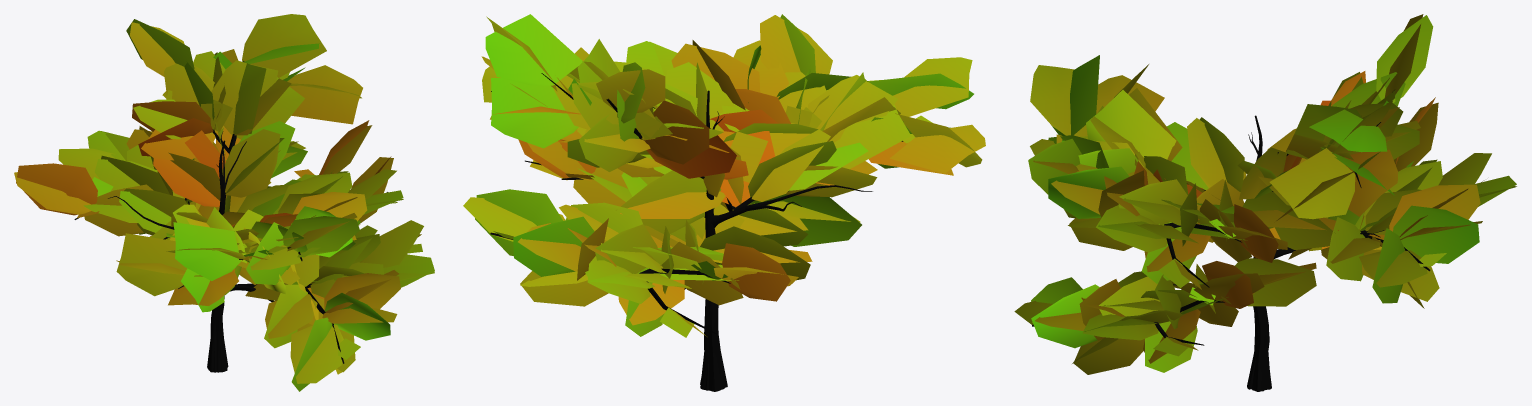
The model's file is Tree_small_1.glb.
3 views of the same model, side by side, from view 1: azimuth 30°, elevation 25°; view 2: azimuth 150°, elevation 25°; view 3: azimuth 270°, elevation 25° (orthographic). The views are drawn at different scales.
Visible parts, largest first — view 1: Tree small 1; view 2: Tree small 1; view 3: Tree small 1.
Part boxes in pixels (box(x1,y1,x2,y2)): Tree small 1: box(14, 14, 434, 391); Tree small 1: box(463, 14, 985, 391); Tree small 1: box(1014, 14, 1516, 391).
Size of what is drawn, in the model's own units: 13.29 by 11.79 by 14.8.
